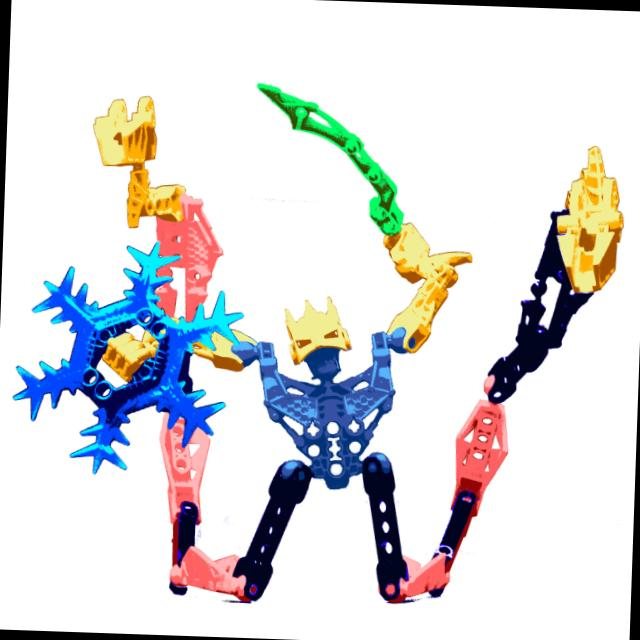Toy: (176, 296, 474, 594)
